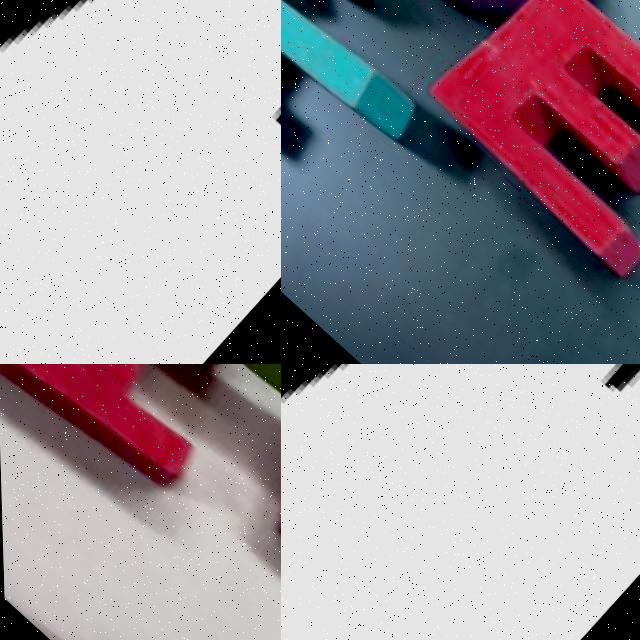E: (396, 0, 640, 285)
I: (0, 364, 281, 516)
S: (330, 0, 640, 79)
T: (0, 0, 281, 364), (281, 364, 640, 640)
